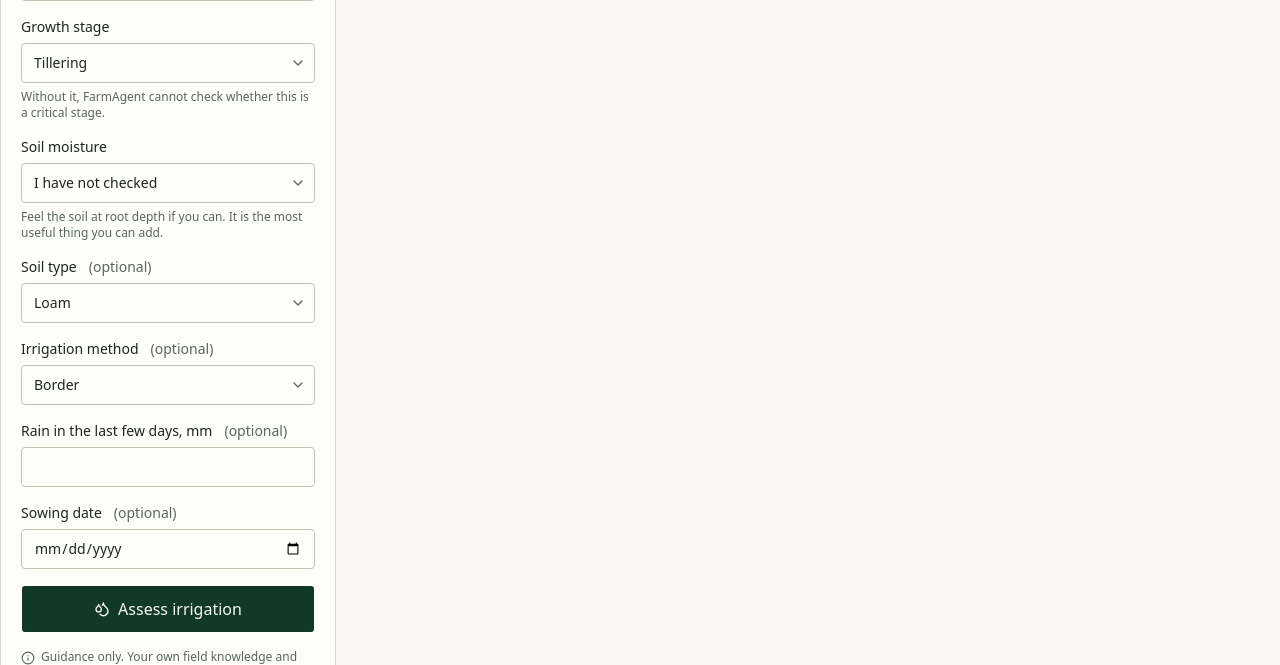
IrrigationPage › saves a real assessment to history, once
(page scrolled)
Step 1. Click the button "Assess irrigation" → (168, 609), box [21,585,315,633]
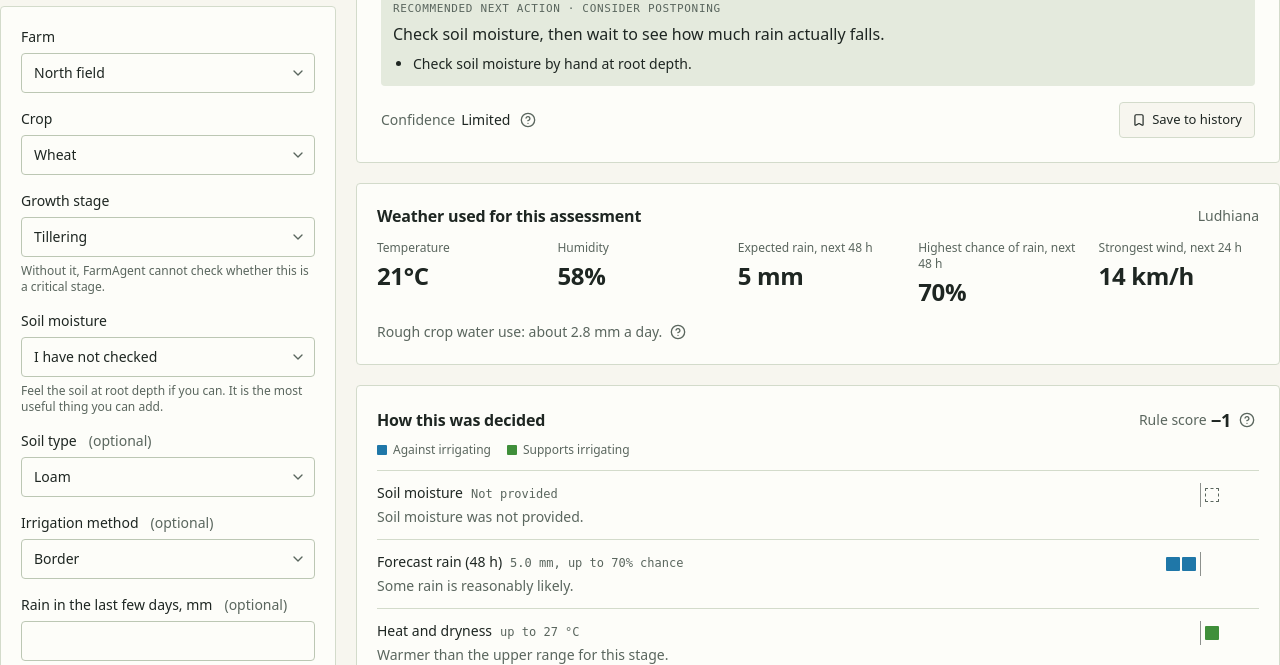
Step 2. Click the button "Save to history" → (1187, 120), box [1119,102,1255,138]
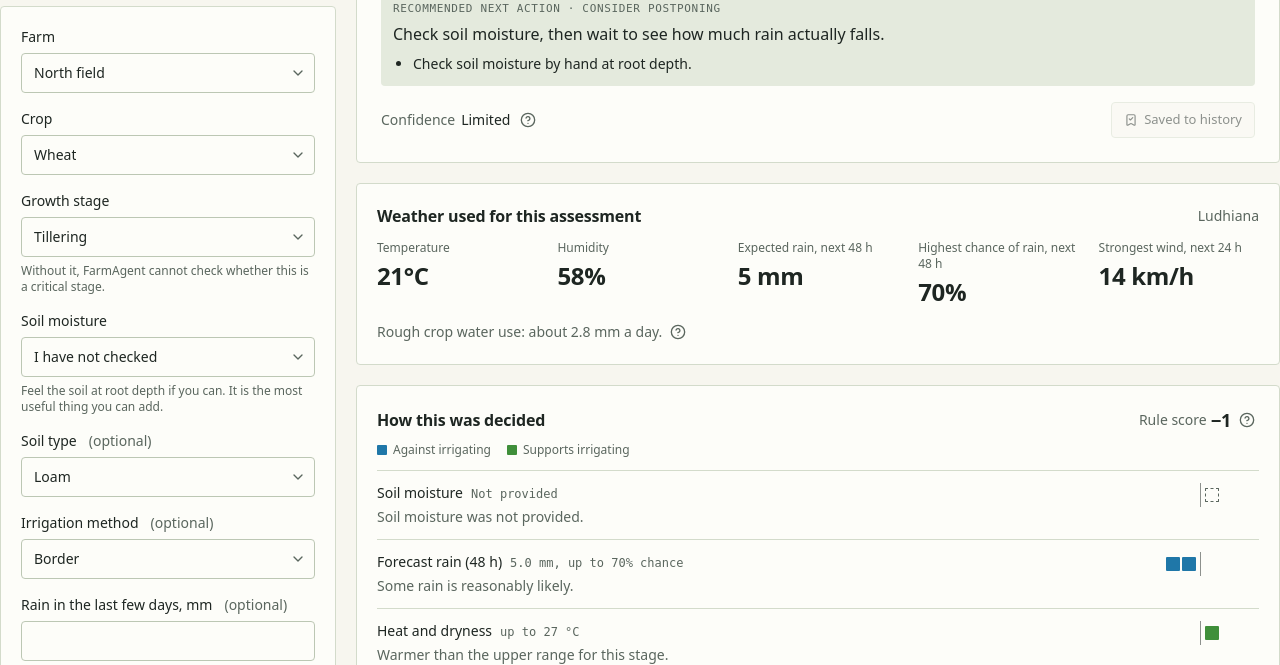
Expected: the button "Saved to history" is disabled, [1111,102,1255,138]
